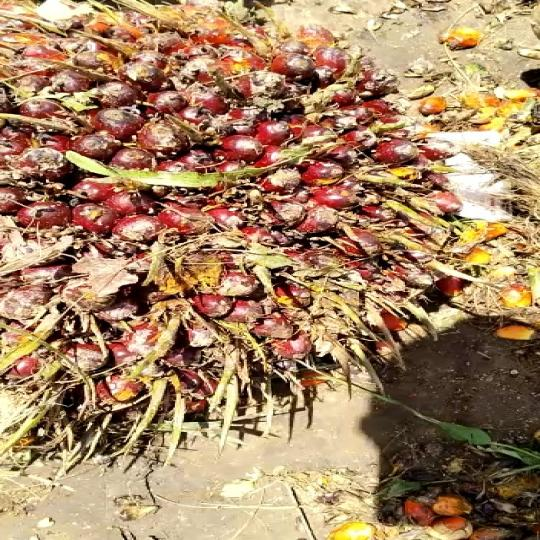masak: (0, 0, 497, 469)
